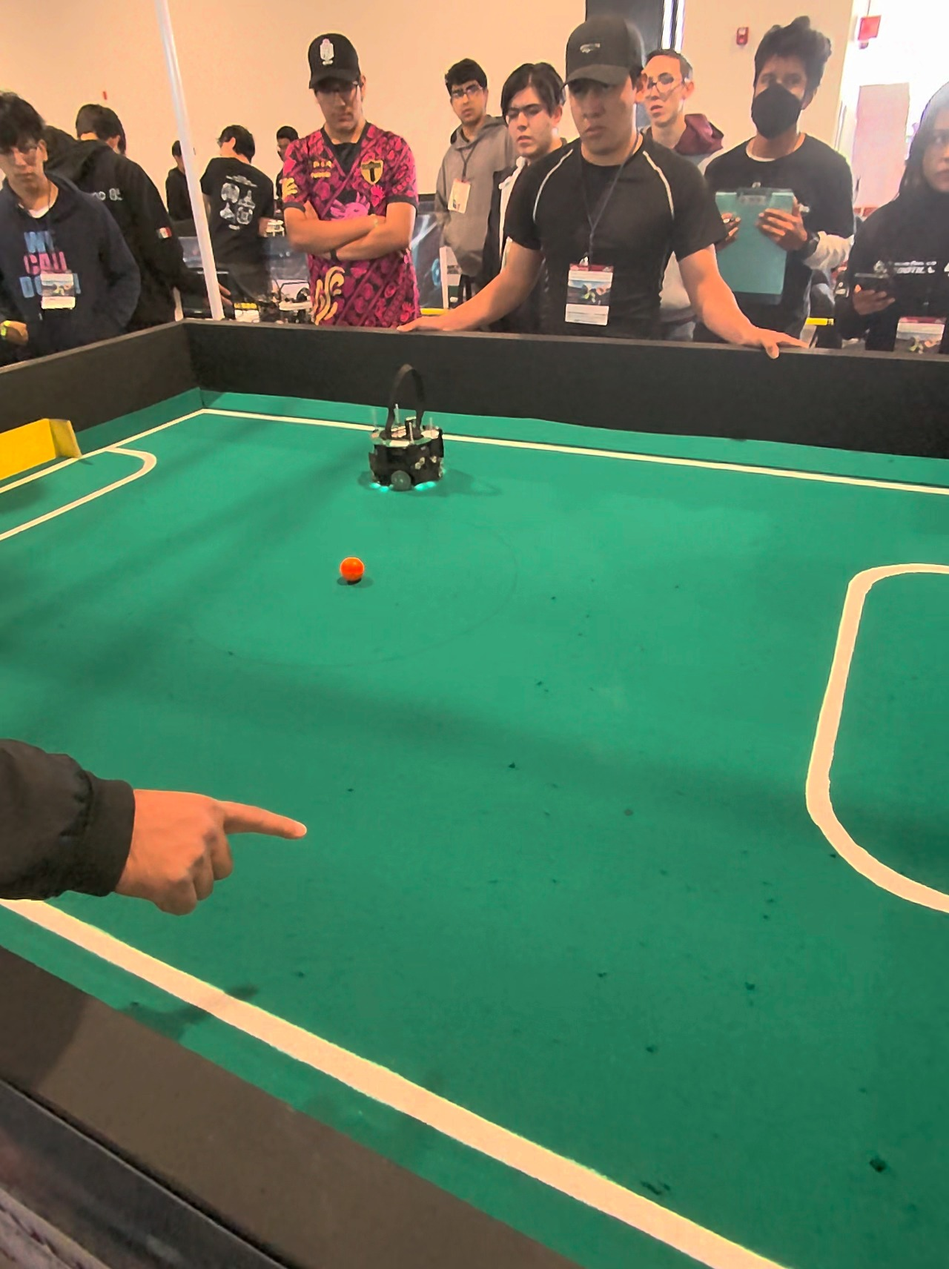Robot: (365, 359, 450, 501)
pelota: (342, 557, 368, 583)
